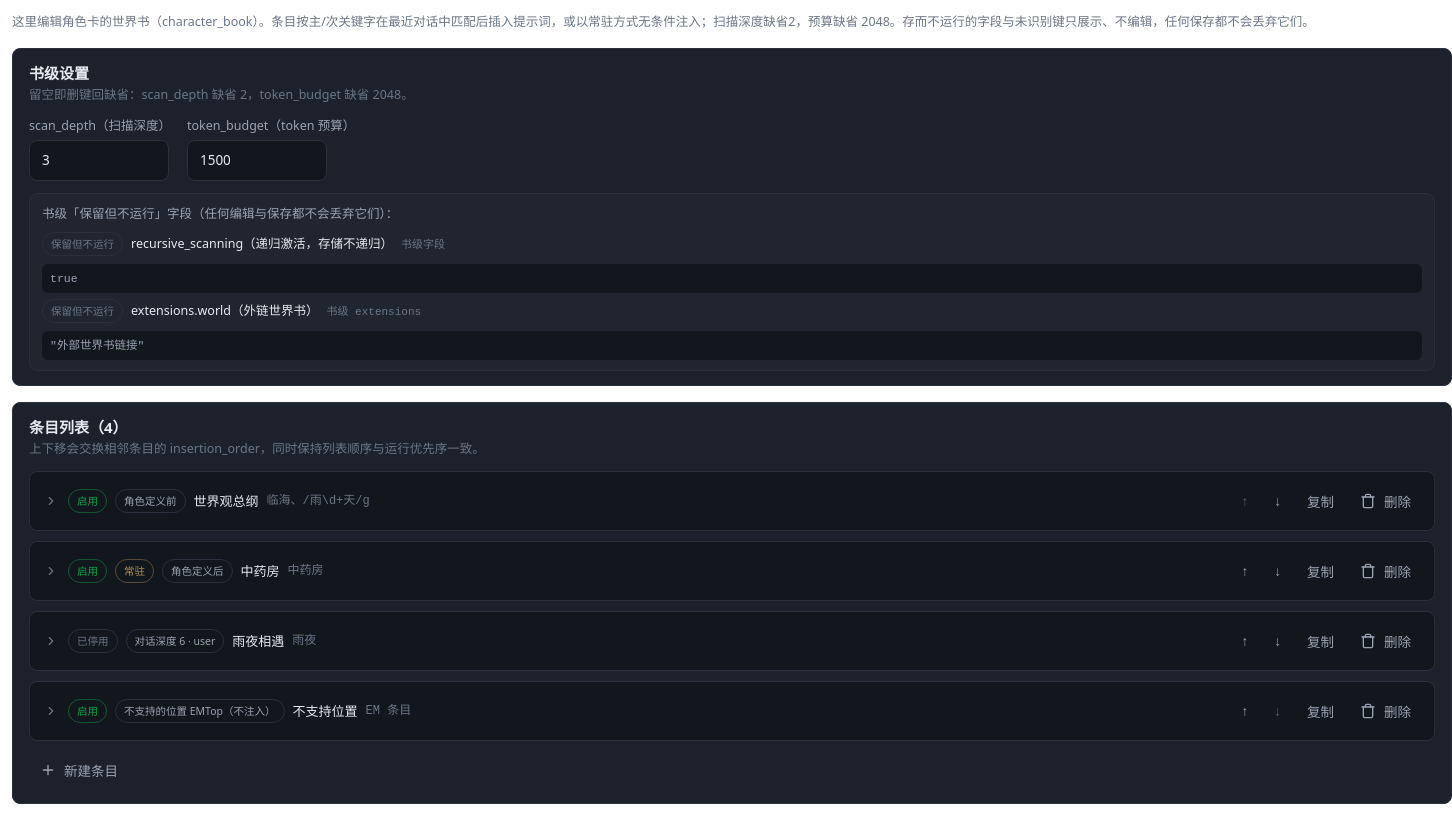
it: WorldBookEditor 行为 › 上下移交换相邻条目并同步交换 insertion_order
Expected: the button with test id "wb-entry-up-0" is disabled, x1=1230 y1=482 x2=1259 y2=520
Expected: the button with test id "wb-entry-down-3" is disabled, x1=1263 y1=692 x2=1292 y2=730
Click the button with test id "wb-entry-down-0": [1278, 500] box x1=1263 y1=482 x2=1292 y2=520
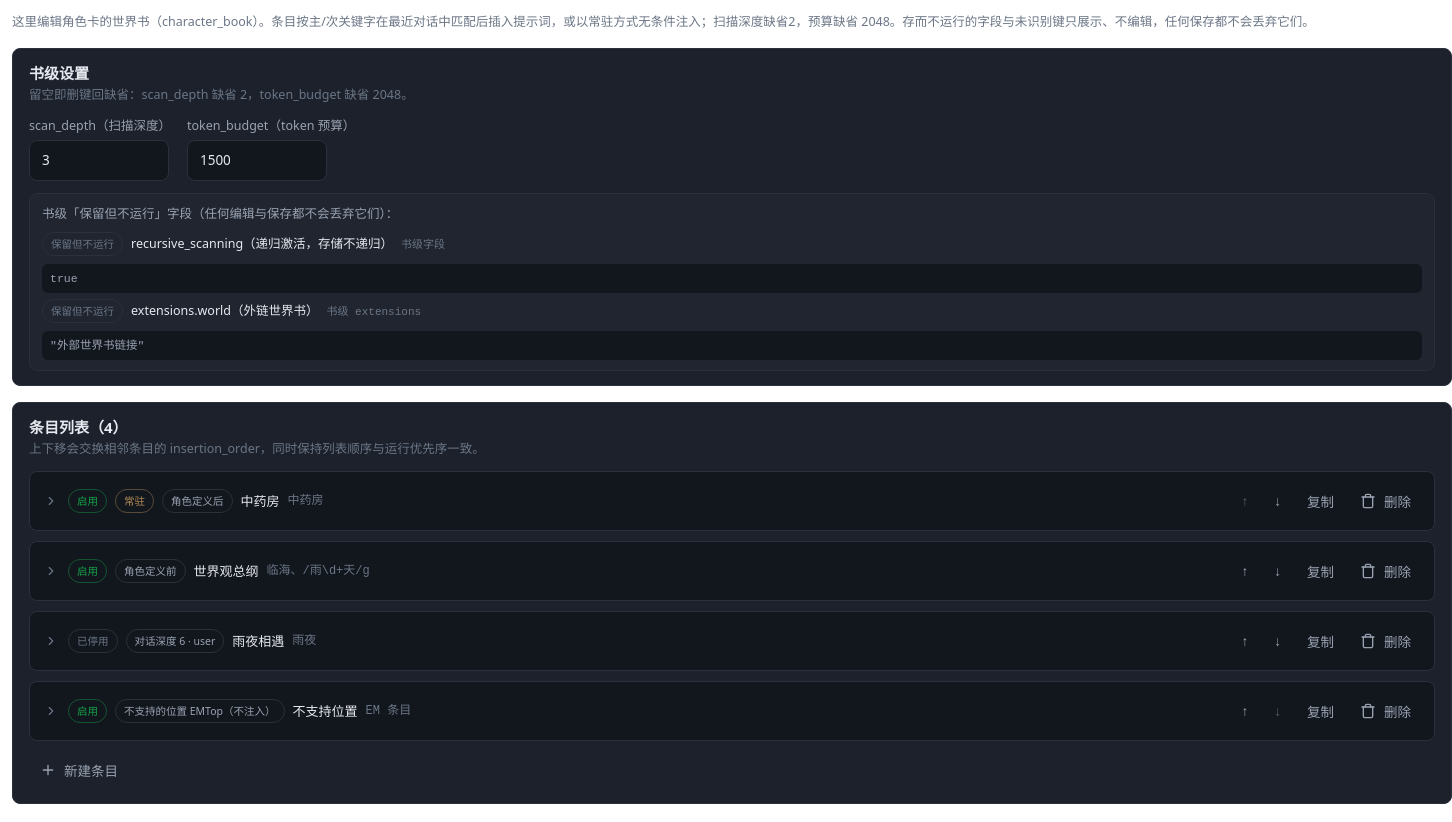
Expected: the 1st text "中药房" is shown, x1=240 y1=490 x2=280 y2=510
Expected: the text "世界观总纲" is shown, x1=194 y1=560 x2=258 y2=580
Click the button with test id "wb-entry-down-1": [1278, 570] box x1=1263 y1=552 x2=1292 y2=590
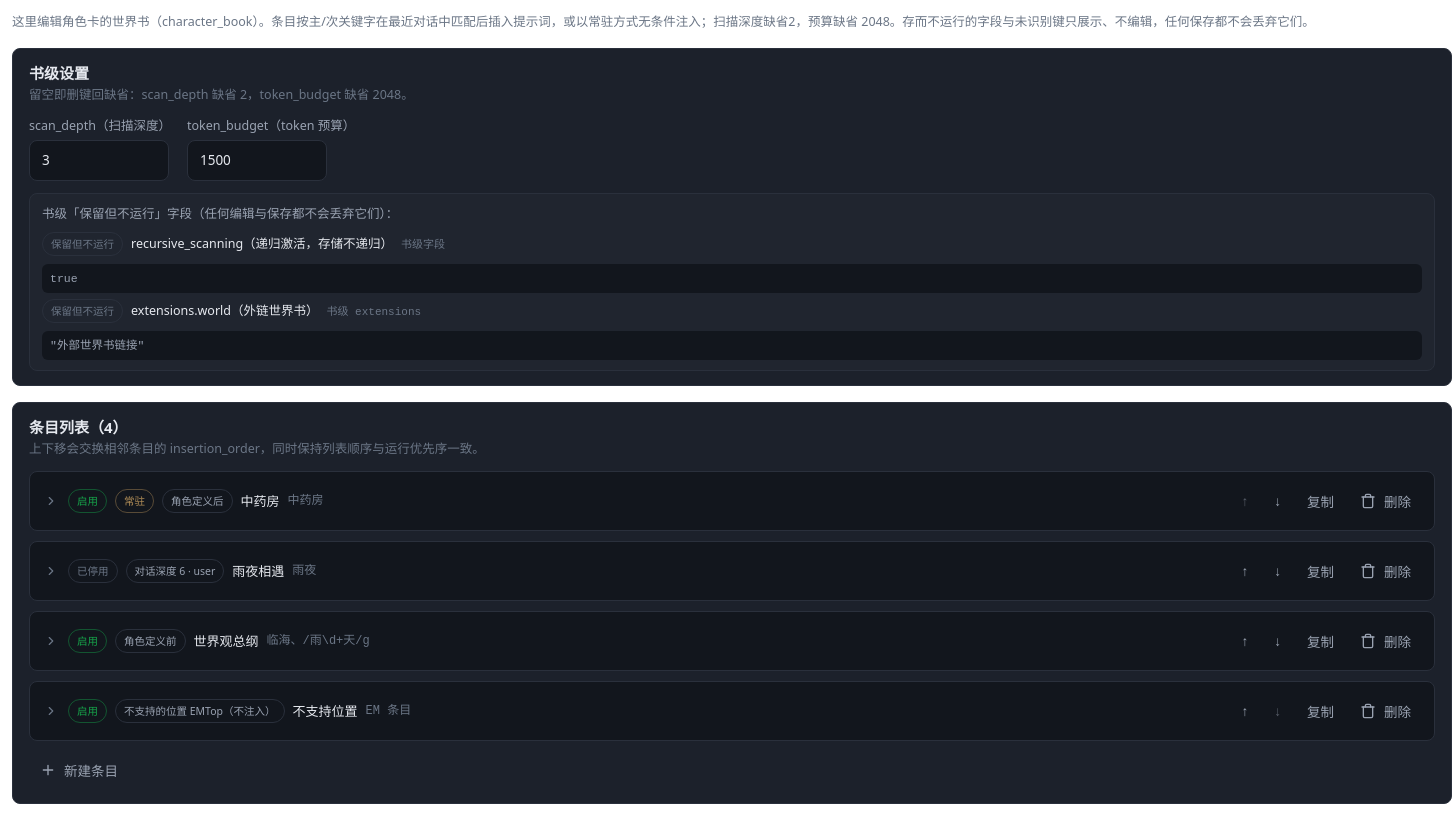
Expected: the text "雨夜相遇" is shown, x1=232 y1=560 x2=284 y2=580
Expected: the text "世界观总纲" is shown, x1=194 y1=630 x2=258 y2=650
